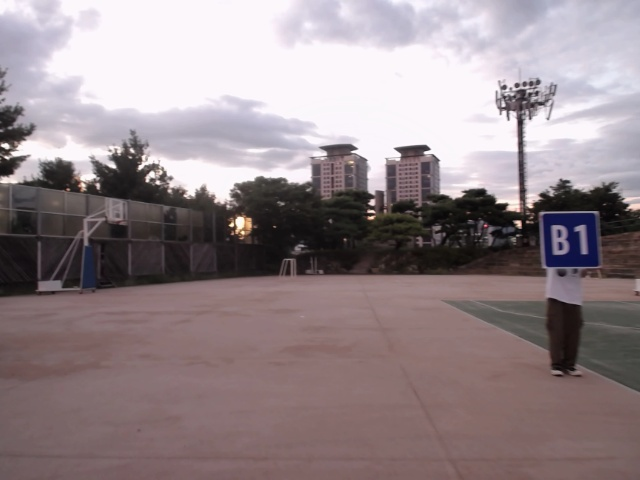delivery_b1: (542, 211, 600, 269)
